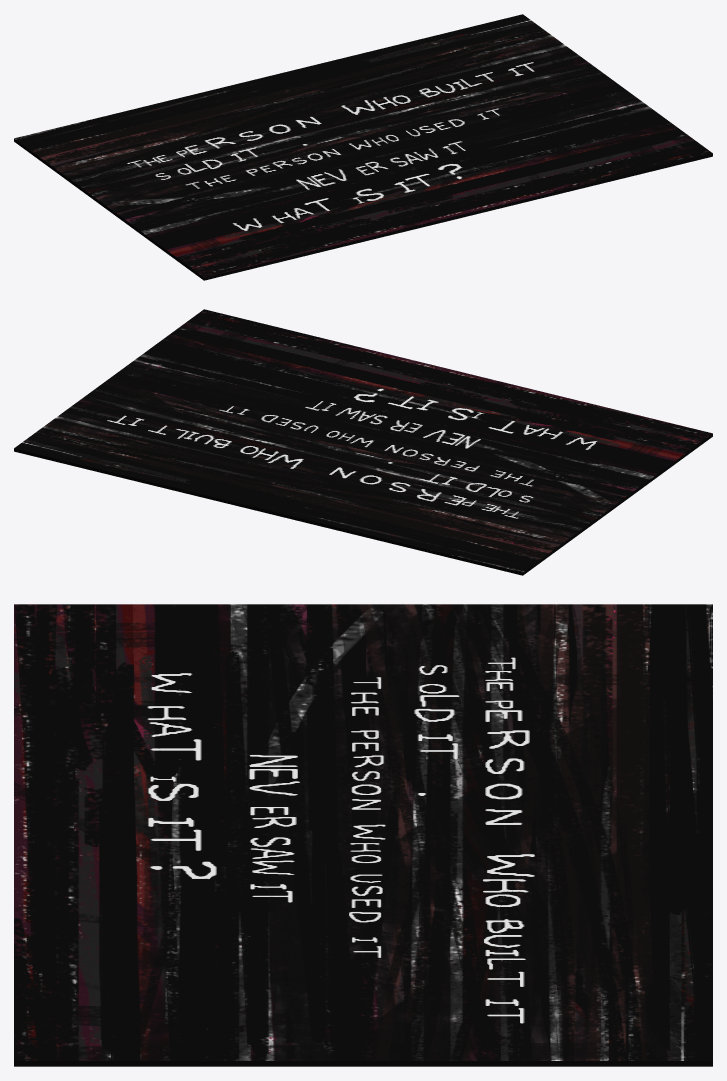
File: riddle.fbx
3 renders of one model, top to bottom at view 1: azimuth 30°, elevation 25°; view 2: azimuth 150°, elevation 25°; view 3: azimuth 270°, elevation 25°, orthographic. The views are drawn at different scales.
Visible parts, largest first — view 1: riddle.003, riddle.005, riddle.006, riddle.004, riddle.001, riddle.002, riddle; view 2: riddle.003, riddle.005, riddle.006, riddle.001, riddle.004, riddle.002, riddle; view 3: riddle.003, riddle.005, riddle.006, riddle.004, riddle.001, riddle.002, riddle.
Boxes of the visible parts, x1,y1,x2,y2 form: riddle.003: (449,36,712,207); riddle.005: (59,144,397,280); riddle.006: (224,95,510,199); riddle.004: (240,154,501,236); riddle.001: (180,59,407,143); riddle.002: (337,14,551,98); riddle: (14,96,222,174); riddle.003: (44,309,414,431); riddle.005: (404,389,712,541); riddle.006: (212,380,513,492); riddle.001: (199,450,429,533); riddle.004: (337,361,583,452); riddle.002: (14,426,248,496); riddle: (351,493,568,575); riddle.003: (14,850,603,1066); riddle.005: (14,604,545,791); riddle.006: (180,726,560,943); riddle.004: (14,688,282,891); riddle.001: (499,726,712,926); riddle.002: (466,894,712,1066); riddle: (499,604,712,757).
Size of the model in its own units: 130 by 0.7717 by 83.82.
1 material, 1 textured.
